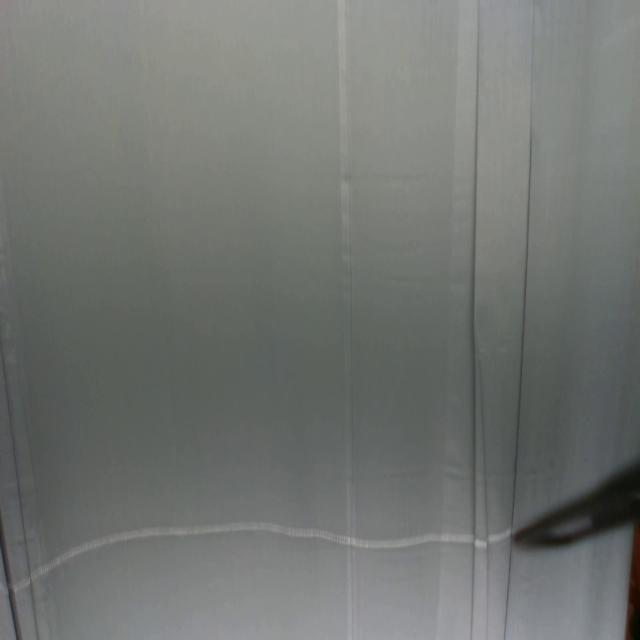crease: (467, 0, 490, 639), (511, 0, 537, 521), (337, 0, 357, 638), (1, 343, 39, 637), (0, 524, 22, 639), (501, 540, 514, 640)
